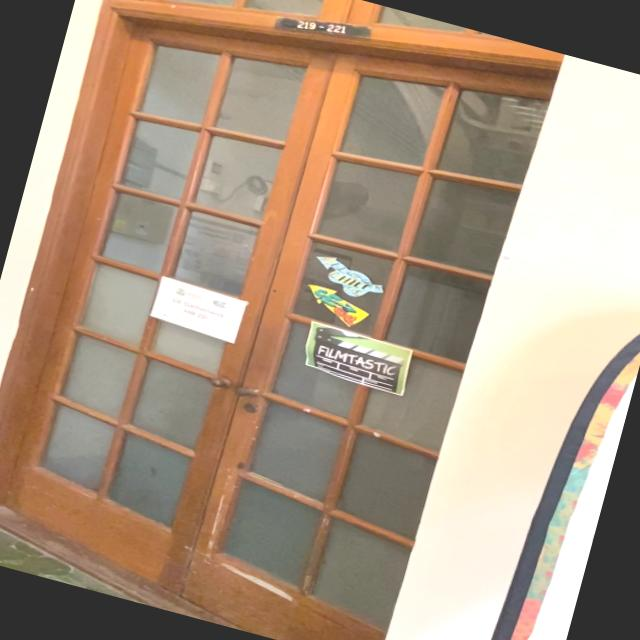room221: (270, 1, 372, 56)
